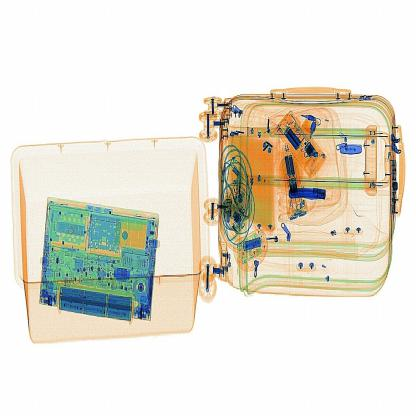knife: (286, 186, 331, 208)
